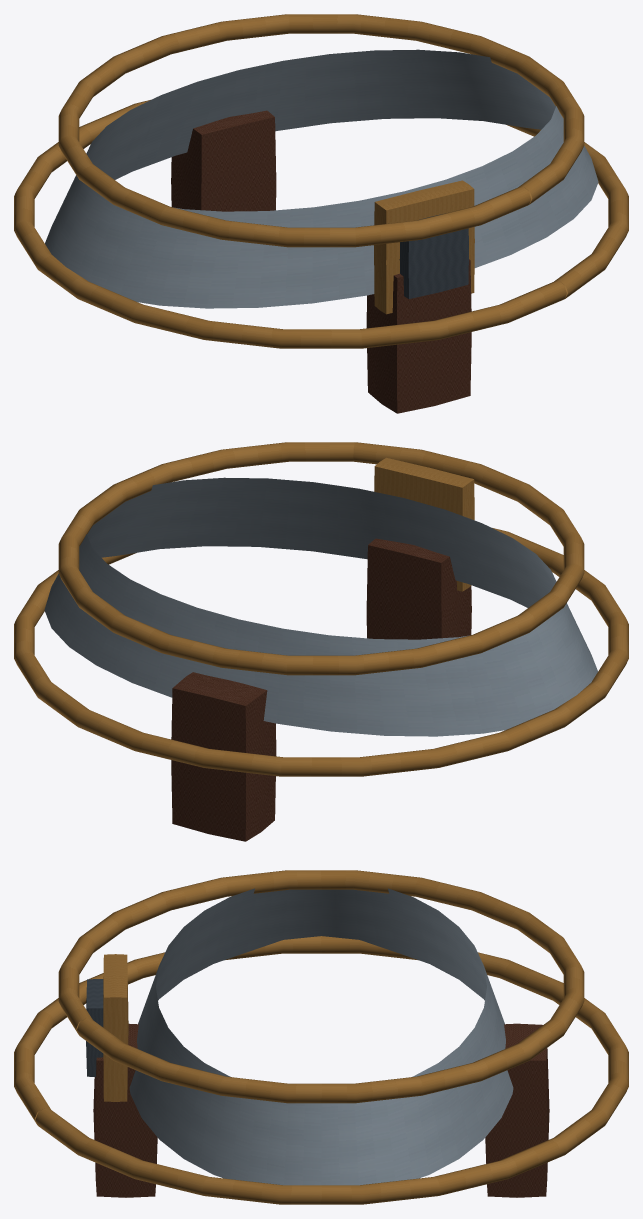
3 views of the same model, one above another, from view 1: azimuth 30°, elevation 25°; view 2: azimuth 150°, elevation 25°; view 3: azimuth 270°, elevation 25° (orthographic).
Visible parts, largest first — view 1: steel.0, brass.2, brass.1, leather.5, leather.6, brass.3, iron.4; view 2: steel.0, brass.2, brass.1, leather.6, leather.5, brass.3; view 3: steel.0, brass.2, brass.1, leather.6, leather.5, brass.3, iron.4.
Boxes of the visible parts, x1,y1,x2,y2 form: steel.0: [45, 49, 598, 308]; brass.2: [58, 14, 584, 247]; brass.1: [14, 100, 628, 348]; leather.5: [366, 259, 471, 413]; leather.6: [171, 110, 276, 211]; brass.3: [374, 180, 474, 314]; iron.4: [399, 214, 468, 298]; steel.0: [44, 477, 597, 736]; brass.2: [58, 442, 584, 675]; brass.1: [14, 528, 628, 776]; leather.6: [171, 672, 276, 841]; leather.5: [366, 538, 471, 639]; brass.3: [374, 457, 474, 591]; steel.0: [129, 888, 513, 1185]; brass.2: [58, 870, 584, 1103]; brass.1: [14, 936, 628, 1204]; leather.6: [485, 1023, 549, 1197]; leather.5: [93, 1023, 157, 1197]; brass.3: [103, 954, 128, 1101]; iron.4: [86, 979, 103, 1076].
Bounding box in the file's own units: 0.4719 × 0.175 × 0.4719.
4 materials, 4 textured.
